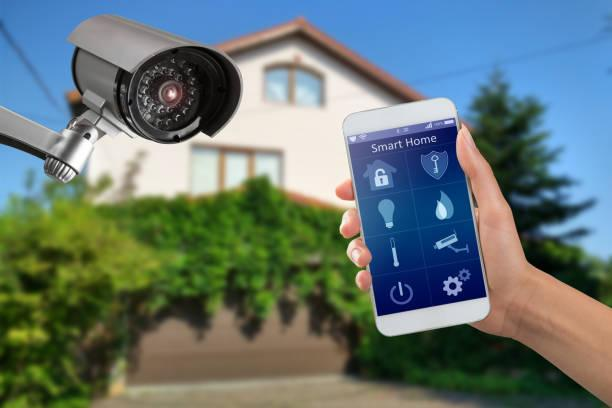camera: (33, 7, 252, 174)
